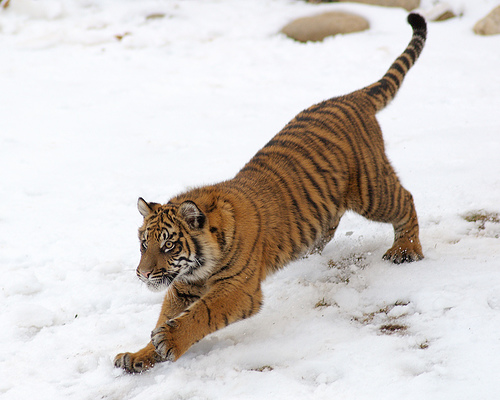Tigre: (127, 184, 447, 360)
